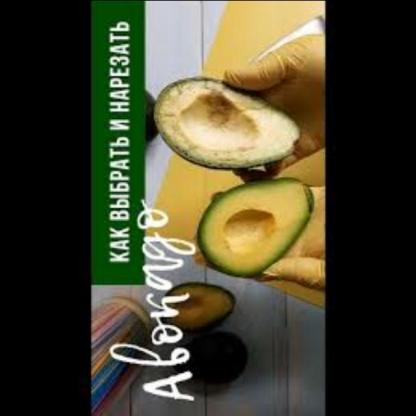avocado: (150, 68, 295, 170), (196, 171, 321, 282), (168, 317, 260, 384), (157, 278, 240, 335)
